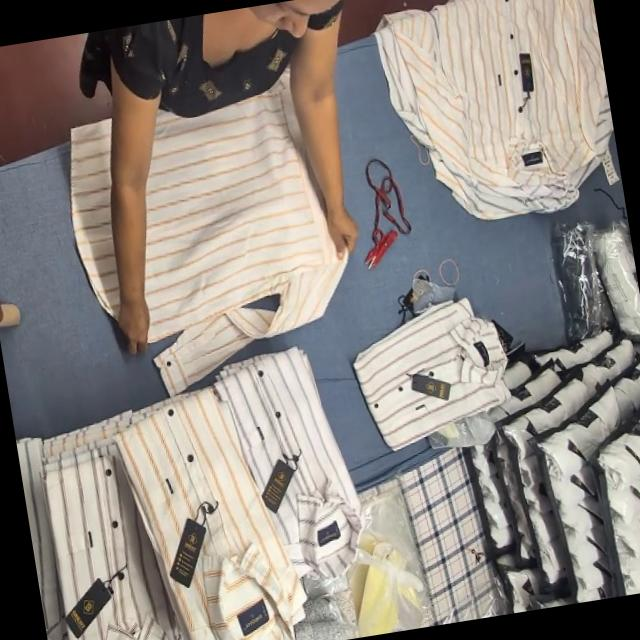new-garment: (145, 73, 345, 391), (71, 123, 118, 315)
